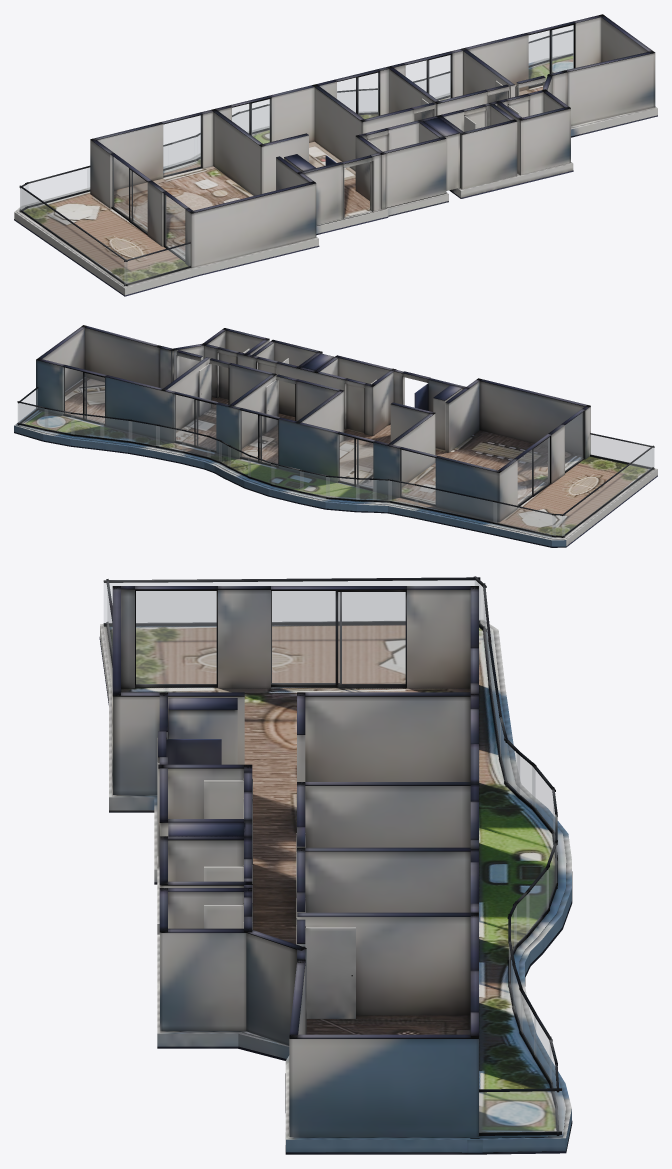
3 views of the same model, one above another, from view 1: azimuth 30°, elevation 25°; view 2: azimuth 150°, elevation 25°; view 3: azimuth 270°, elevation 25° (orthographic). The views are drawn at different scales.
Parts seen in each view (by area): view 1: plan, railg22_m, glass2_m, glass6_m, glass0_m, railg0_m, glass5_m, glass4_m, railg20_m, glass3_m, glass1_m, railg5_m (+2 smaller); view 2: plan, railg22_m, glass6_m, railg1_m, glass5_m, glass4_m, glass2_m, glass3_m, glass0_m, railg20_m, railg0_m, glass1_m (+16 smaller); view 3: plan, glass0_m, railg22_m, glass1_m, railg2_m, railg14_m, railg17_m.
Boxes of the visible parts, x1,y1,x2,y2 form: plan: [14, 14, 657, 296]; railg22_m: [20, 188, 127, 283]; glass2_m: [163, 115, 200, 175]; glass6_m: [529, 25, 573, 86]; glass0_m: [112, 156, 147, 231]; railg0_m: [124, 244, 190, 283]; glass5_m: [406, 55, 450, 100]; glass4_m: [337, 73, 378, 118]; railg20_m: [26, 168, 89, 205]; glass3_m: [232, 99, 269, 143]; glass1_m: [165, 195, 184, 259]; railg5_m: [172, 137, 197, 165]; plan: [14, 325, 657, 547]; railg22_m: [562, 448, 652, 535]; glass6_m: [64, 367, 104, 421]; railg1_m: [415, 486, 496, 522]; glass5_m: [175, 395, 215, 450]; glass4_m: [240, 411, 277, 463]; glass2_m: [401, 450, 435, 503]; glass3_m: [338, 435, 372, 488]; glass0_m: [518, 437, 549, 505]; railg20_m: [493, 502, 555, 535]; railg0_m: [590, 435, 654, 467]; glass1_m: [565, 412, 583, 470]; plan: [99, 576, 572, 1154]; glass0_m: [271, 591, 405, 684]; railg22_m: [104, 580, 479, 623]; glass1_m: [136, 591, 216, 684]; railg2_m: [479, 1091, 561, 1132]; railg14_m: [526, 869, 548, 934]; railg17_m: [532, 766, 554, 832].
Size of the model in its own units: 25.46 by 2.62 by 9.78.
Materials: 2 (1 with a texture image).
